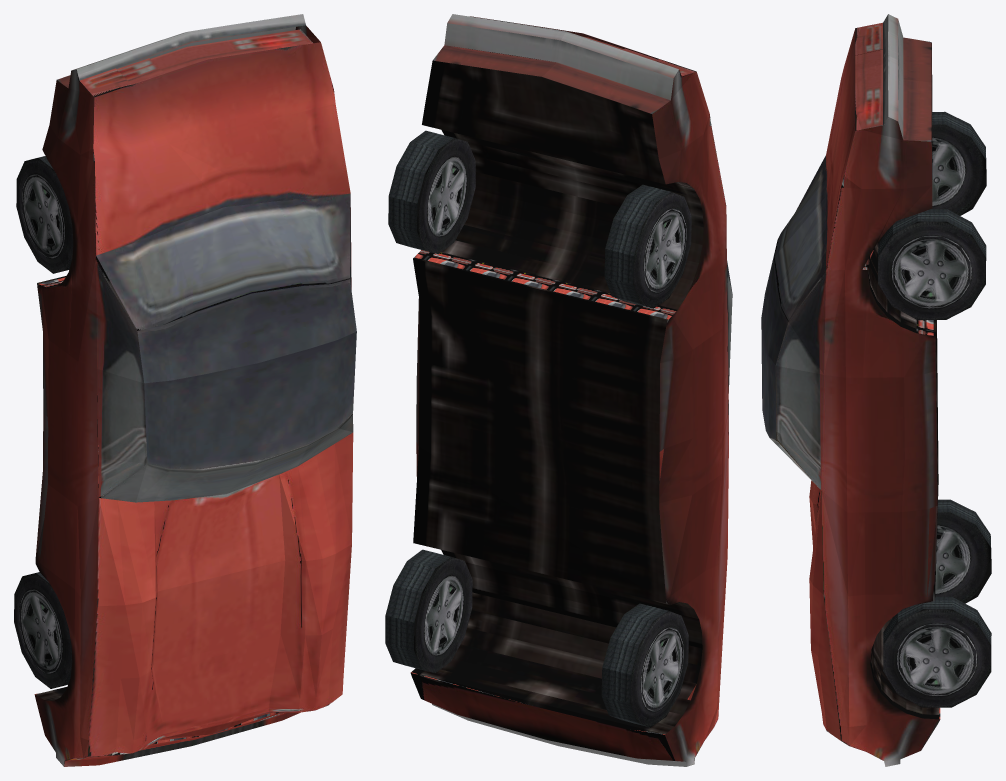
File: carpack_keuroac_wtf.obj
The picture shows the model from 3 angles, left to right: view 1: azimuth 30°, elevation 25°; view 2: azimuth 150°, elevation 25°; view 3: azimuth 270°, elevation 25°; orthographic projection. The views are drawn at different scales.
Parts seen in each view (by area): view 1: group2; view 2: group2; view 3: group2.
Part boxes in pixels (<box>): group2: <box>14,14,356,766</box>; group2: <box>385,14,732,766</box>; group2: <box>761,14,991,766</box>.
Size of the model in its own units: 260 by 660 by 208.
